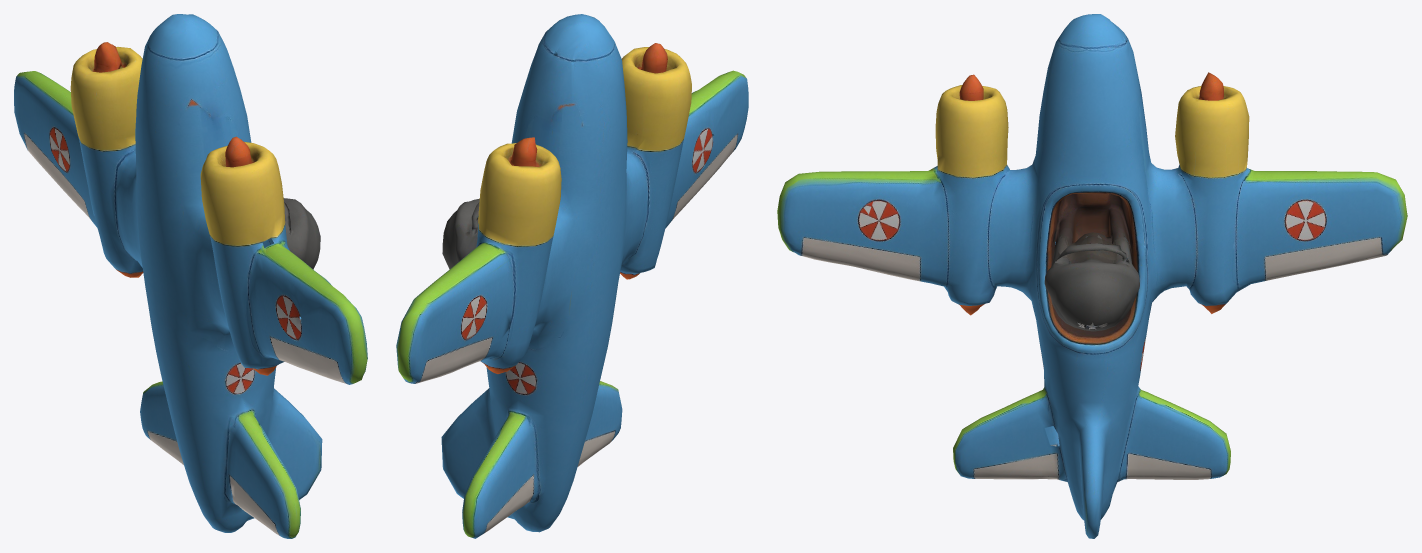
Rendered from tripo_convert_86a4adda-a66f-404e-919f-07db0873f4ce.fbx.
3 views of the same model, side by side, from view 1: azimuth 30°, elevation 25°; view 2: azimuth 150°, elevation 25°; view 3: azimuth 270°, elevation 25° (orthographic). The views are drawn at different scales.
Parts seen in each view (by area): view 1: tripo_node_86a4adda; view 2: tripo_node_86a4adda; view 3: tripo_node_86a4adda.
Boxes of the visible parts, x1,y1,x2,y2 form: tripo_node_86a4adda: [14, 14, 367, 538]; tripo_node_86a4adda: [396, 14, 748, 538]; tripo_node_86a4adda: [777, 14, 1407, 538].
Size of the model in its own units: 0.2968 by 0.8302 by 0.9756.
1 material, 1 textured.
